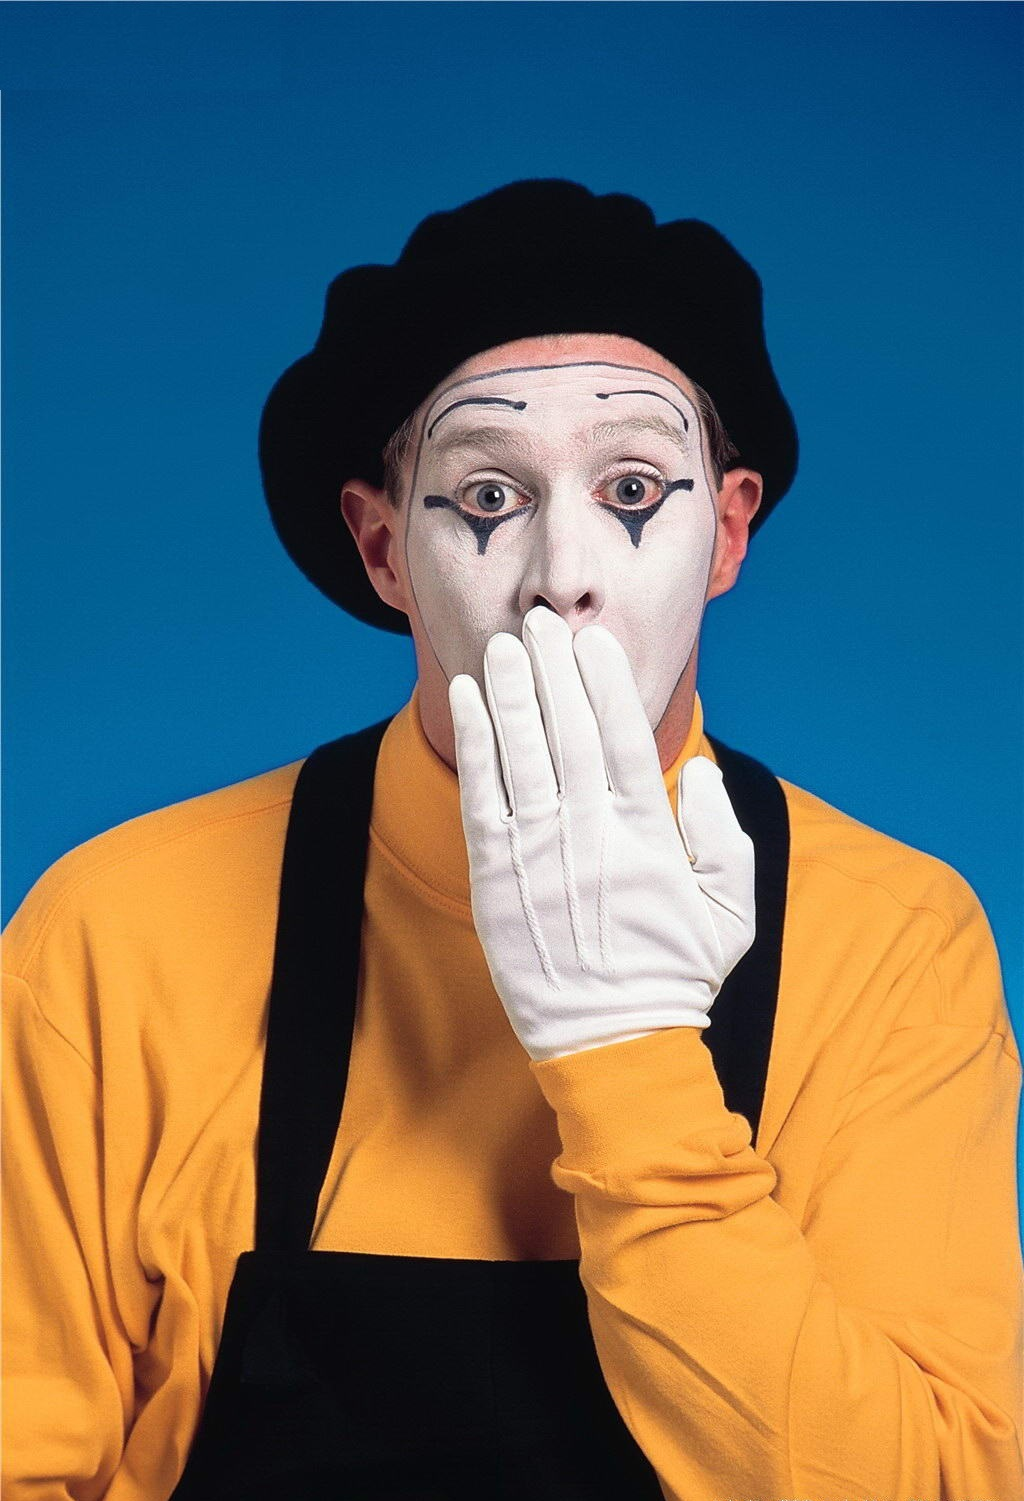face: (406, 306, 710, 814)
